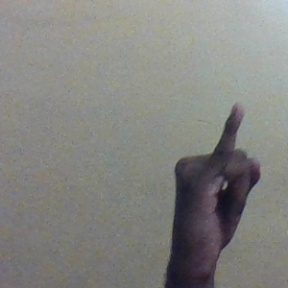I: (169, 100, 263, 263)
